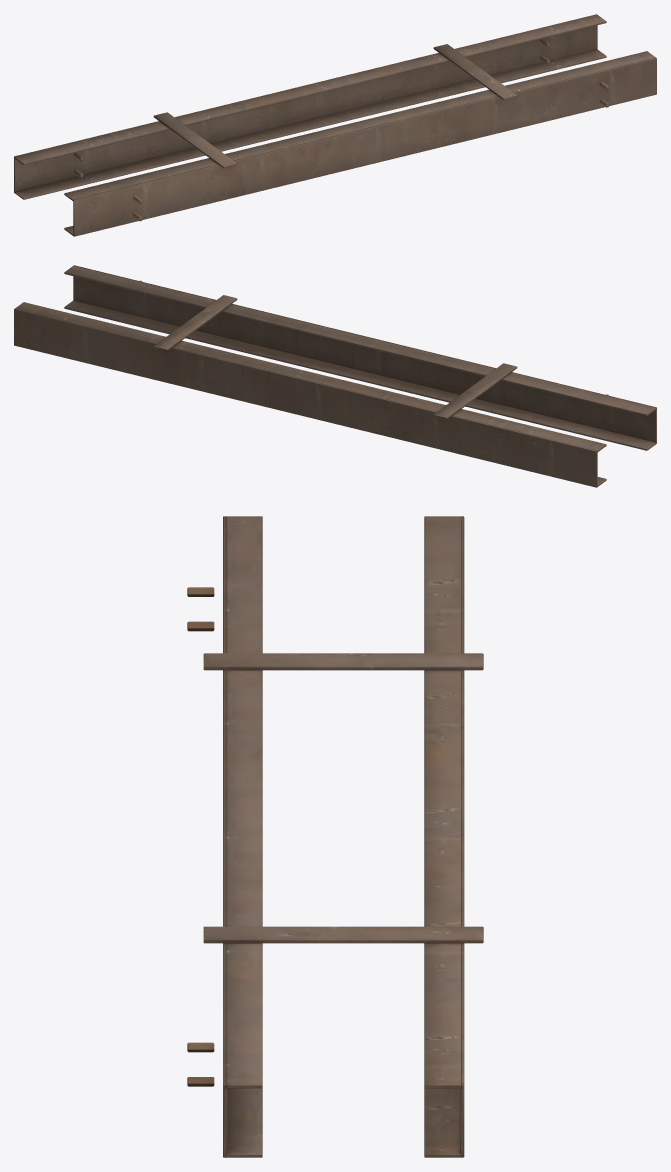
File: transformer_platform.glb
3 renders of one model, top to bottom at view 1: azimuth 30°, elevation 25°; view 2: azimuth 150°, elevation 25°; view 3: azimuth 270°, elevation 25°, orthographic. The views are drawn at different scales.
Visible parts, largest first — view 1: transformer_platform; view 2: transformer_platform; view 3: transformer_platform.
Boxes of the visible parts, x1,y1,x2,y2 form: transformer_platform: (14,14,656,236); transformer_platform: (14,265,656,487); transformer_platform: (187,516,483,1157).
Size of the model in its own units: 2.5 by 0.1581 by 0.5499.
Materials: 1 (1 with a texture image).
